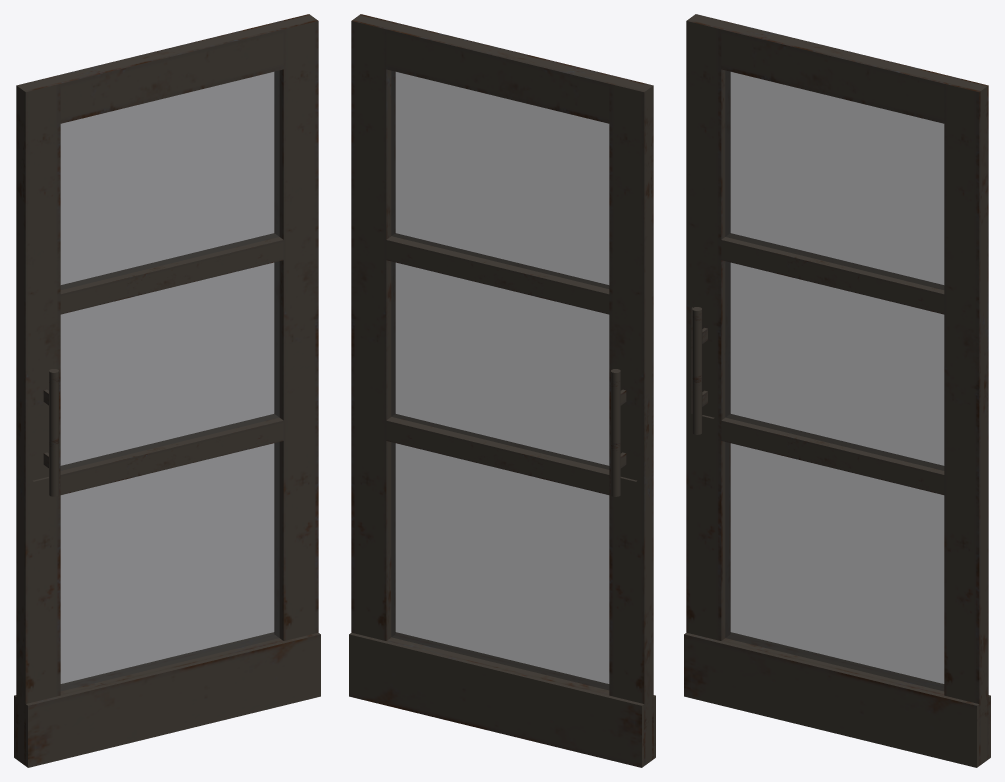
File: door_3.glb
3 renders of one model, left to right at view 1: azimuth 30°, elevation 25°; view 2: azimuth 150°, elevation 25°; view 3: azimuth 330°, elevation 25°, orthographic.
Visible parts, largest first — view 1: Door_3; view 2: Door_3; view 3: Door_3.
Part boxes in pixels (x1,y1,x2,y2): Door_3: (14, 14, 320, 767); Door_3: (349, 14, 655, 767); Door_3: (684, 14, 990, 767).
Size of the model in its own units: 1 by 2.2 by 0.1883.
Materials: 2 (1 with a texture image).
